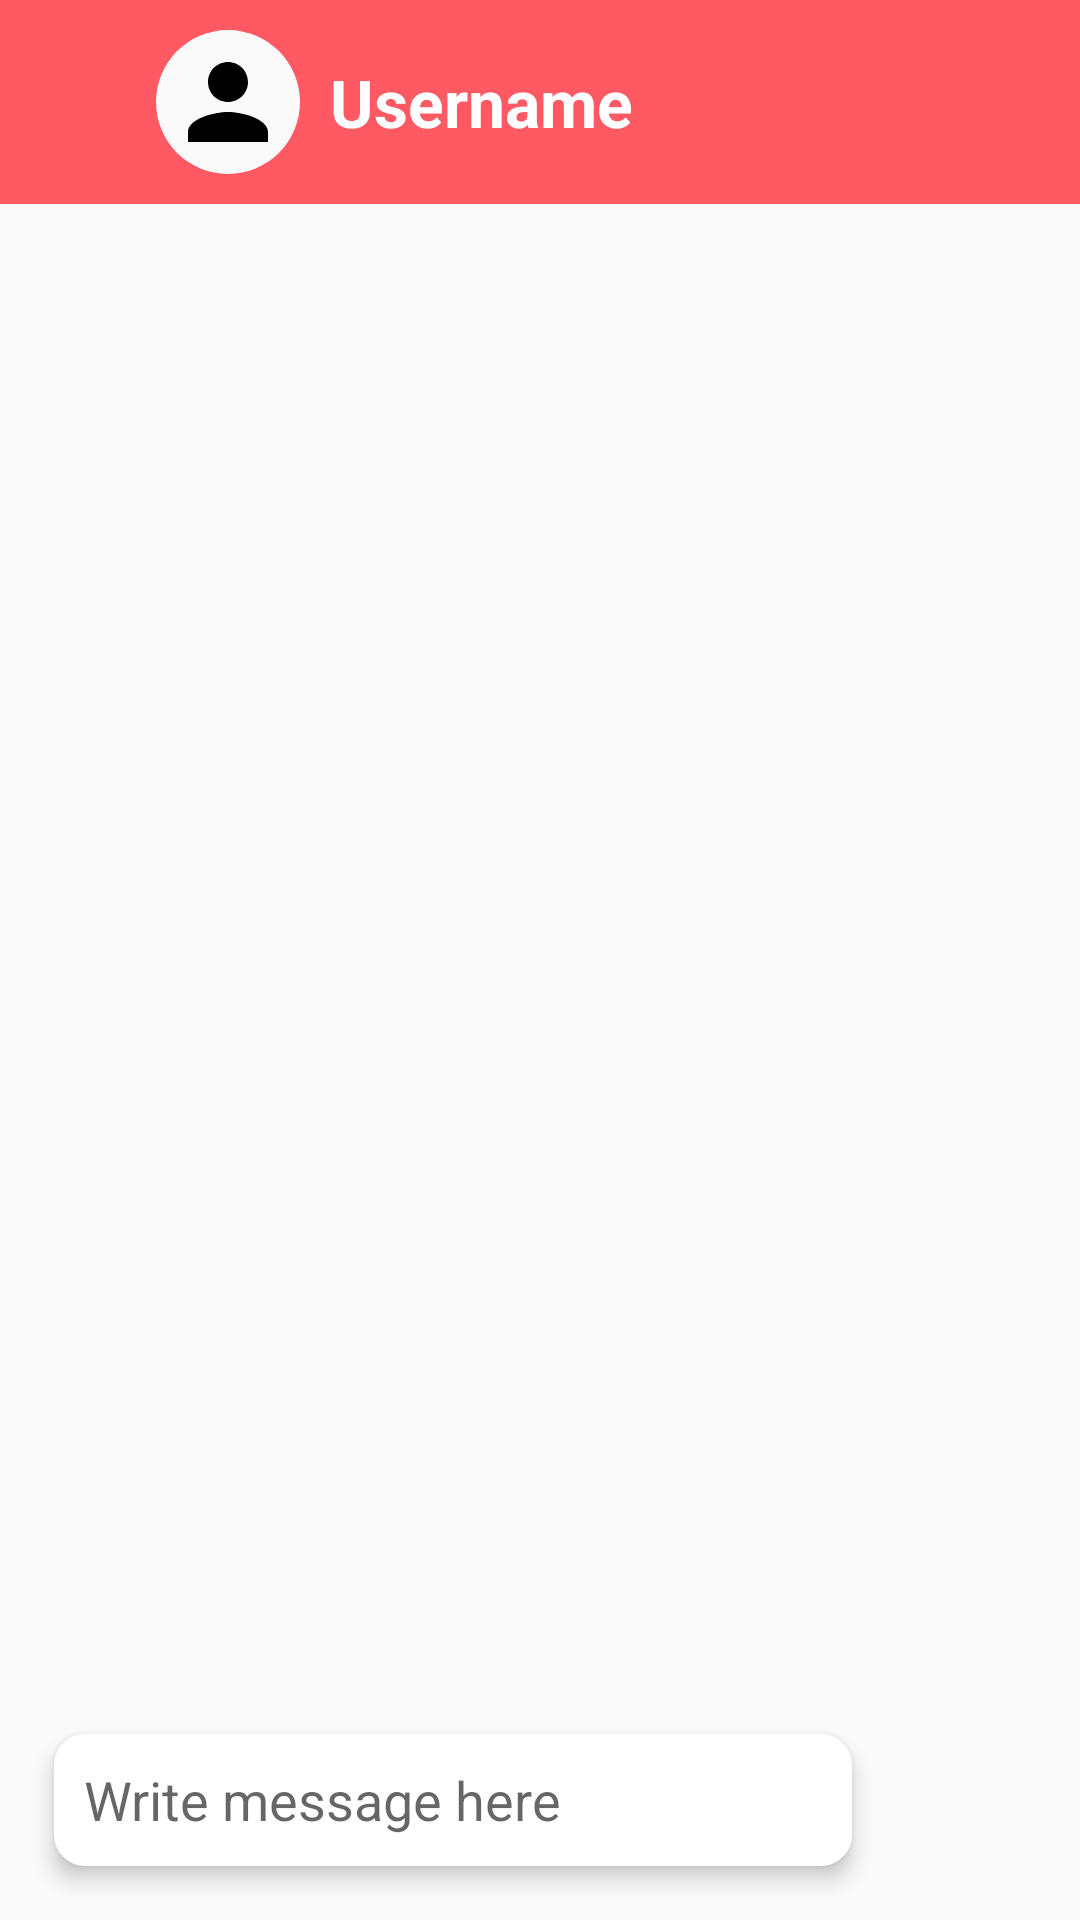

Where to tap for icons on this 1080×1920 app screen, as [x,y]:
person: [228,102]
